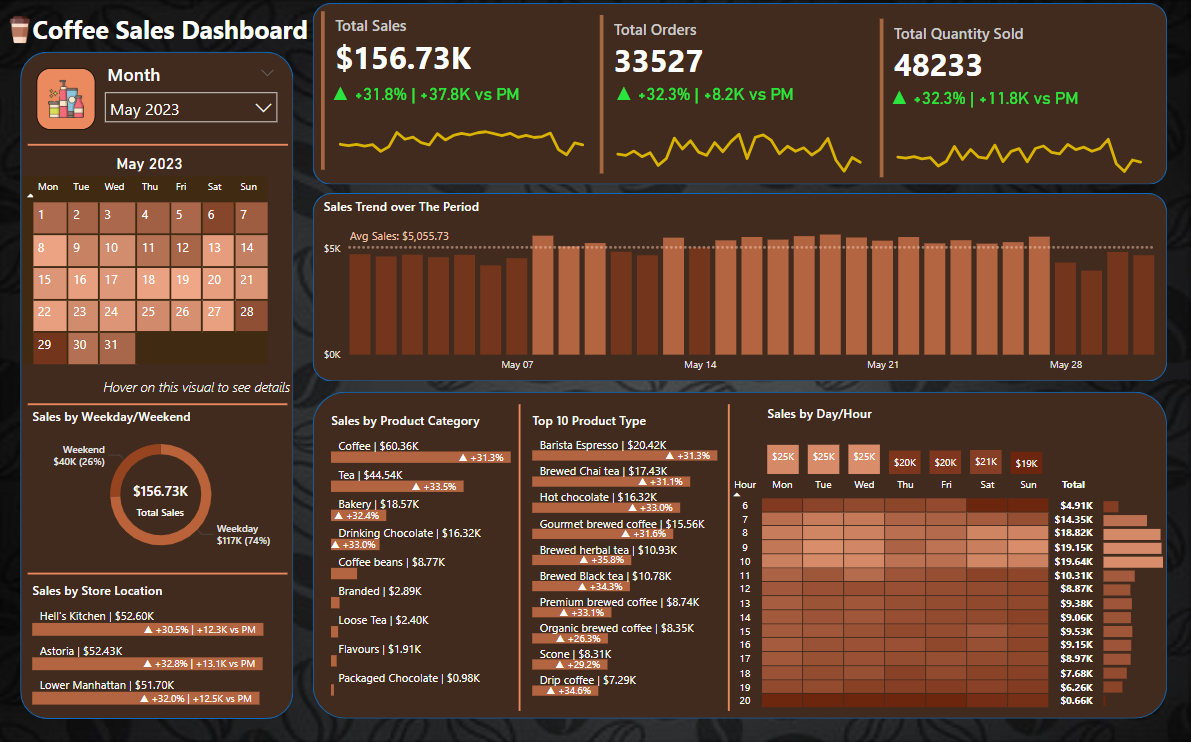

What the dashboard file says about the page in this screenshot:
{"tool":"powerbi","page":{"name":"Monthly Sales","canvas":[1280,800],"ordinal":0},"visuals":[{"type":"cardVisual","fields":{"Data":["Key Measures.Total Sales"]},"box":[339.8,9.9,300.1,180.3],"z":0,"group":"g1"},{"type":"cardVisual","fields":{"Data":["Key Measures.Total Orders"]},"box":[639.4,13.9,300.1,180.6],"z":0,"group":"g2"},{"type":"cardVisual","fields":{"Data":["Key Measures.Total Quantity Sold"]},"box":[939.6,17.6,300.5,180.6],"z":0,"group":"g3"},{"type":"shape","box":[23.1,57.7,292.9,715.6],"z":0},{"type":"pivotTable","fields":{"Rows":["Dim_Date.WeekNumber"],"Columns":["Dim_Date.ShortWeekdayName"],"Values":["Min(Dim_Date.DayNo)"]},"box":[20.4,186,300.1,216.4],"z":0,"group":"g4"},{"type":"pivotTable","fields":{"Rows":["Dim_Time.Hour"],"Columns":["Dim_Date.ShortWeekdayName"],"Values":["Key Measures.Total Sales"]},"box":[777.6,509.3,424.2,264],"z":0,"group":"g5"},{"type":"shape","box":[336.2,5.8,916.2,194.8],"z":1000},{"type":"lineChart","fields":{"Category":["Dim_Date.Date Hierarchy.Date"],"Y":["Key Measures.Total Orders"]},"box":[648.8,122.5,290,70.7],"z":1000,"group":"g2"},{"type":"lineChart","fields":{"Y":["Key Measures.Total Sales"],"Category":["Dim_Date.Date Hierarchy.Date"]},"box":[349.9,125.3,290,63.5],"z":1000,"group":"g1"},{"type":"lineChart","fields":{"Category":["Dim_Date.Date Hierarchy.Date"],"Y":["Key Measures.Total Quantity Sold"]},"box":[949.1,126.2,290.4,70.7],"z":1000,"group":"g3"},{"type":"card","fields":{"Values":["Min(Dim_Date.YearMonth)"]},"box":[93.8,163,135.6,27.4],"z":1000,"group":"g4"},{"type":"barChart","fields":{"Category":["Dim_Time.Hour"],"Y":["Key Measures.Total Sales"]},"box":[1179.2,527,75,238.1],"z":1000,"group":"g5"},{"type":"slicer","fields":{"Values":["Dim_Date.YearMonth"]},"box":[103.9,64.9,204.9,86.6],"z":2000},{"type":"card","fields":{"Values":["Key Measures.MoM Growth & Sales Diff"]},"box":[350.4,86,212.1,34.6],"z":2000,"group":"g1"},{"type":"card","fields":{"Values":["Key Measures.MoM Growth & Orders Diff"]},"box":[649.5,86.1,212.1,36.1],"z":2000,"group":"g2"},{"type":"card","fields":{"Values":["Key Measures.MoM Growth & Quantity Diff"]},"box":[949.7,89.8,212.4,36.1],"z":2000,"group":"g3"},{"type":"card","fields":{"Values":["Key Measures.Footnote"]},"box":[103.5,403.9,217.9,28.9],"z":2000,"group":"g4"},{"type":"columnChart","title":"Sales by Day/Hour","fields":{"Y":["Key Measures.Total Sales"],"Category":["Dim_Date.ShortWeekdayName"]},"box":[819.4,435.7,305.9,80.8],"z":2000,"group":"g5"},{"type":"group","id":"g1","title":"Group 1","box":[339.8,9.9,300.1,180.3],"z":3000},{"type":"group","id":"g2","title":"Group 1","box":[639.4,13.9,300.8,180],"z":4000},{"type":"group","id":"g3","title":"Group 1","box":[939.6,17.6,300,180],"z":5000},{"type":"group","id":"g4","title":"Group 2","box":[20.4,163,300.9,269.8],"z":6000},{"type":"shape","box":[30.4,148.1,279.1,17.2],"z":7000},{"type":"donutChart","title":"Sales by Weekday/Weekend","fields":{"Y":["Key Measures.Total Sales"],"Category":["Dim_Date.isWeekend"]},"box":[30.3,440,285.7,168.8],"z":8000},{"type":"card","fields":{"Values":["Key Measures.Total Sales"]},"box":[132.7,509.3,80.8,56.3],"z":9000},{"type":"clusteredBarChart","title":"Sales by Store Location","fields":{"Y":["Key Measures.Placeholder","Key Measures.Total Sales"],"Category":["Dim_Store.store_location"]},"box":[30.4,625.7,284.4,138.9],"z":10000},{"type":"shape","box":[336.2,209.2,916.2,202],"z":11000},{"type":"shape","box":[336.2,422.7,916.2,350.6],"z":12000},{"type":"columnChart","title":"Sales Trend over The Period","fields":{"Category":["Dim_Date.Date"],"Y":["Key Measures.Total Sales"]},"box":[343.4,215,908.9,196.2],"z":13000},{"type":"clusteredBarChart","title":"Sales by Product Category","fields":{"Y":["Key Measures.Placeholder","Key Measures.Total Sales"],"Category":["Dim_Category.product_category"]},"box":[350.6,444.4,232.3,310.2],"z":14000},{"type":"shape","box":[549.7,435.7,17.3,328.9],"z":15000},{"type":"shape","box":[30.3,425.6,278.5,18.8],"z":16000},{"type":"shape","box":[30.3,608.8,278.5,17.3],"z":17000},{"type":"clusteredBarChart","title":"Top 10 Product Type","fields":{"Y":["Key Measures.Placeholder","Key Measures.Total Sales"],"Category":["Dim_Type.product_type"]},"box":[567,444.4,240.9,310.2],"z":18000},{"type":"group","id":"g5","title":"Group 3","box":[777.6,435.7,476.6,337.6],"z":19000},{"type":"textbox","box":[30.3,10.1,320.3,47.6],"z":20000},{"type":"image","box":[0,14.4,44.7,39],"z":21000},{"type":"shape","box":[766.1,435.7,31.7,328.9],"z":22000},{"type":"image","box":[40.4,75,63.5,66.4],"z":23001}]}

Visuals, with their boxes in screenshot pixels (x1, y1, x2, y2), scaled from the page's 1280x800 canvas onto the 1191x742 screenshot:
cardVisual - Key Measures.Total Sales: {"x1": 316, "y1": 9, "x2": 595, "y2": 176}
cardVisual - Key Measures.Total Orders: {"x1": 595, "y1": 13, "x2": 874, "y2": 180}
cardVisual - Key Measures.Total Quantity Sold: {"x1": 874, "y1": 16, "x2": 1154, "y2": 184}
shape: {"x1": 21, "y1": 54, "x2": 294, "y2": 717}
pivotTable - Dim_Date.WeekNumber x Dim_Date.ShortWeekdayName: {"x1": 19, "y1": 173, "x2": 298, "y2": 373}
pivotTable - Dim_Time.Hour x Dim_Date.ShortWeekdayName: {"x1": 724, "y1": 472, "x2": 1118, "y2": 717}
shape: {"x1": 313, "y1": 5, "x2": 1165, "y2": 186}
lineChart - Dim_Date.Date Hierarchy.Date x Key Measures.Total Orders: {"x1": 604, "y1": 114, "x2": 874, "y2": 179}
lineChart - Key Measures.Total Sales x Dim_Date.Date Hierarchy.Date: {"x1": 326, "y1": 116, "x2": 595, "y2": 175}
lineChart - Dim_Date.Date Hierarchy.Date x Key Measures.Total Quantity Sold: {"x1": 883, "y1": 117, "x2": 1153, "y2": 183}
card - Min(Dim_Date.YearMonth): {"x1": 87, "y1": 151, "x2": 213, "y2": 177}
barChart - Dim_Time.Hour x Key Measures.Total Sales: {"x1": 1097, "y1": 489, "x2": 1167, "y2": 710}
slicer - Dim_Date.YearMonth: {"x1": 97, "y1": 60, "x2": 287, "y2": 141}
card - Key Measures.MoM Growth & Sales Diff: {"x1": 326, "y1": 80, "x2": 523, "y2": 112}
card - Key Measures.MoM Growth & Orders Diff: {"x1": 604, "y1": 80, "x2": 802, "y2": 113}
card - Key Measures.MoM Growth & Quantity Diff: {"x1": 884, "y1": 83, "x2": 1081, "y2": 117}
card - Key Measures.Footnote: {"x1": 96, "y1": 375, "x2": 299, "y2": 401}
"Sales by Day/Hour" columnChart: {"x1": 762, "y1": 404, "x2": 1047, "y2": 479}
"Group 1" group: {"x1": 316, "y1": 9, "x2": 595, "y2": 176}
"Group 1" group: {"x1": 595, "y1": 13, "x2": 875, "y2": 180}
"Group 1" group: {"x1": 874, "y1": 16, "x2": 1153, "y2": 183}
"Group 2" group: {"x1": 19, "y1": 151, "x2": 299, "y2": 401}
shape: {"x1": 28, "y1": 137, "x2": 288, "y2": 153}
"Sales by Weekday/Weekend" donutChart: {"x1": 28, "y1": 408, "x2": 294, "y2": 565}
card - Key Measures.Total Sales: {"x1": 123, "y1": 472, "x2": 199, "y2": 525}
"Sales by Store Location" clusteredBarChart: {"x1": 28, "y1": 580, "x2": 293, "y2": 709}
shape: {"x1": 313, "y1": 194, "x2": 1165, "y2": 381}
shape: {"x1": 313, "y1": 392, "x2": 1165, "y2": 717}
"Sales Trend over The Period" columnChart: {"x1": 320, "y1": 199, "x2": 1165, "y2": 381}
"Sales by Product Category" clusteredBarChart: {"x1": 326, "y1": 412, "x2": 542, "y2": 700}
shape: {"x1": 511, "y1": 404, "x2": 528, "y2": 709}
shape: {"x1": 28, "y1": 395, "x2": 287, "y2": 412}
shape: {"x1": 28, "y1": 565, "x2": 287, "y2": 581}
"Top 10 Product Type" clusteredBarChart: {"x1": 528, "y1": 412, "x2": 752, "y2": 700}
"Group 3" group: {"x1": 724, "y1": 404, "x2": 1167, "y2": 717}
textbox: {"x1": 28, "y1": 9, "x2": 326, "y2": 54}
image: {"x1": 0, "y1": 13, "x2": 42, "y2": 50}
shape: {"x1": 713, "y1": 404, "x2": 742, "y2": 709}
image: {"x1": 38, "y1": 70, "x2": 97, "y2": 131}
